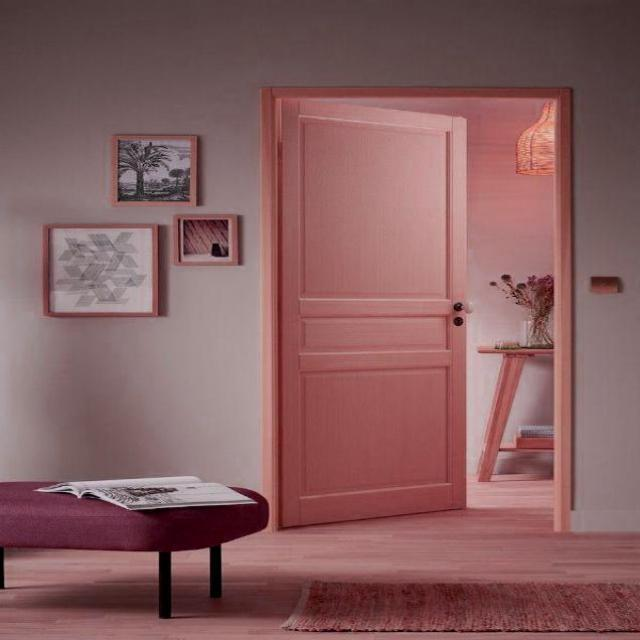door: (276, 97, 468, 528)
